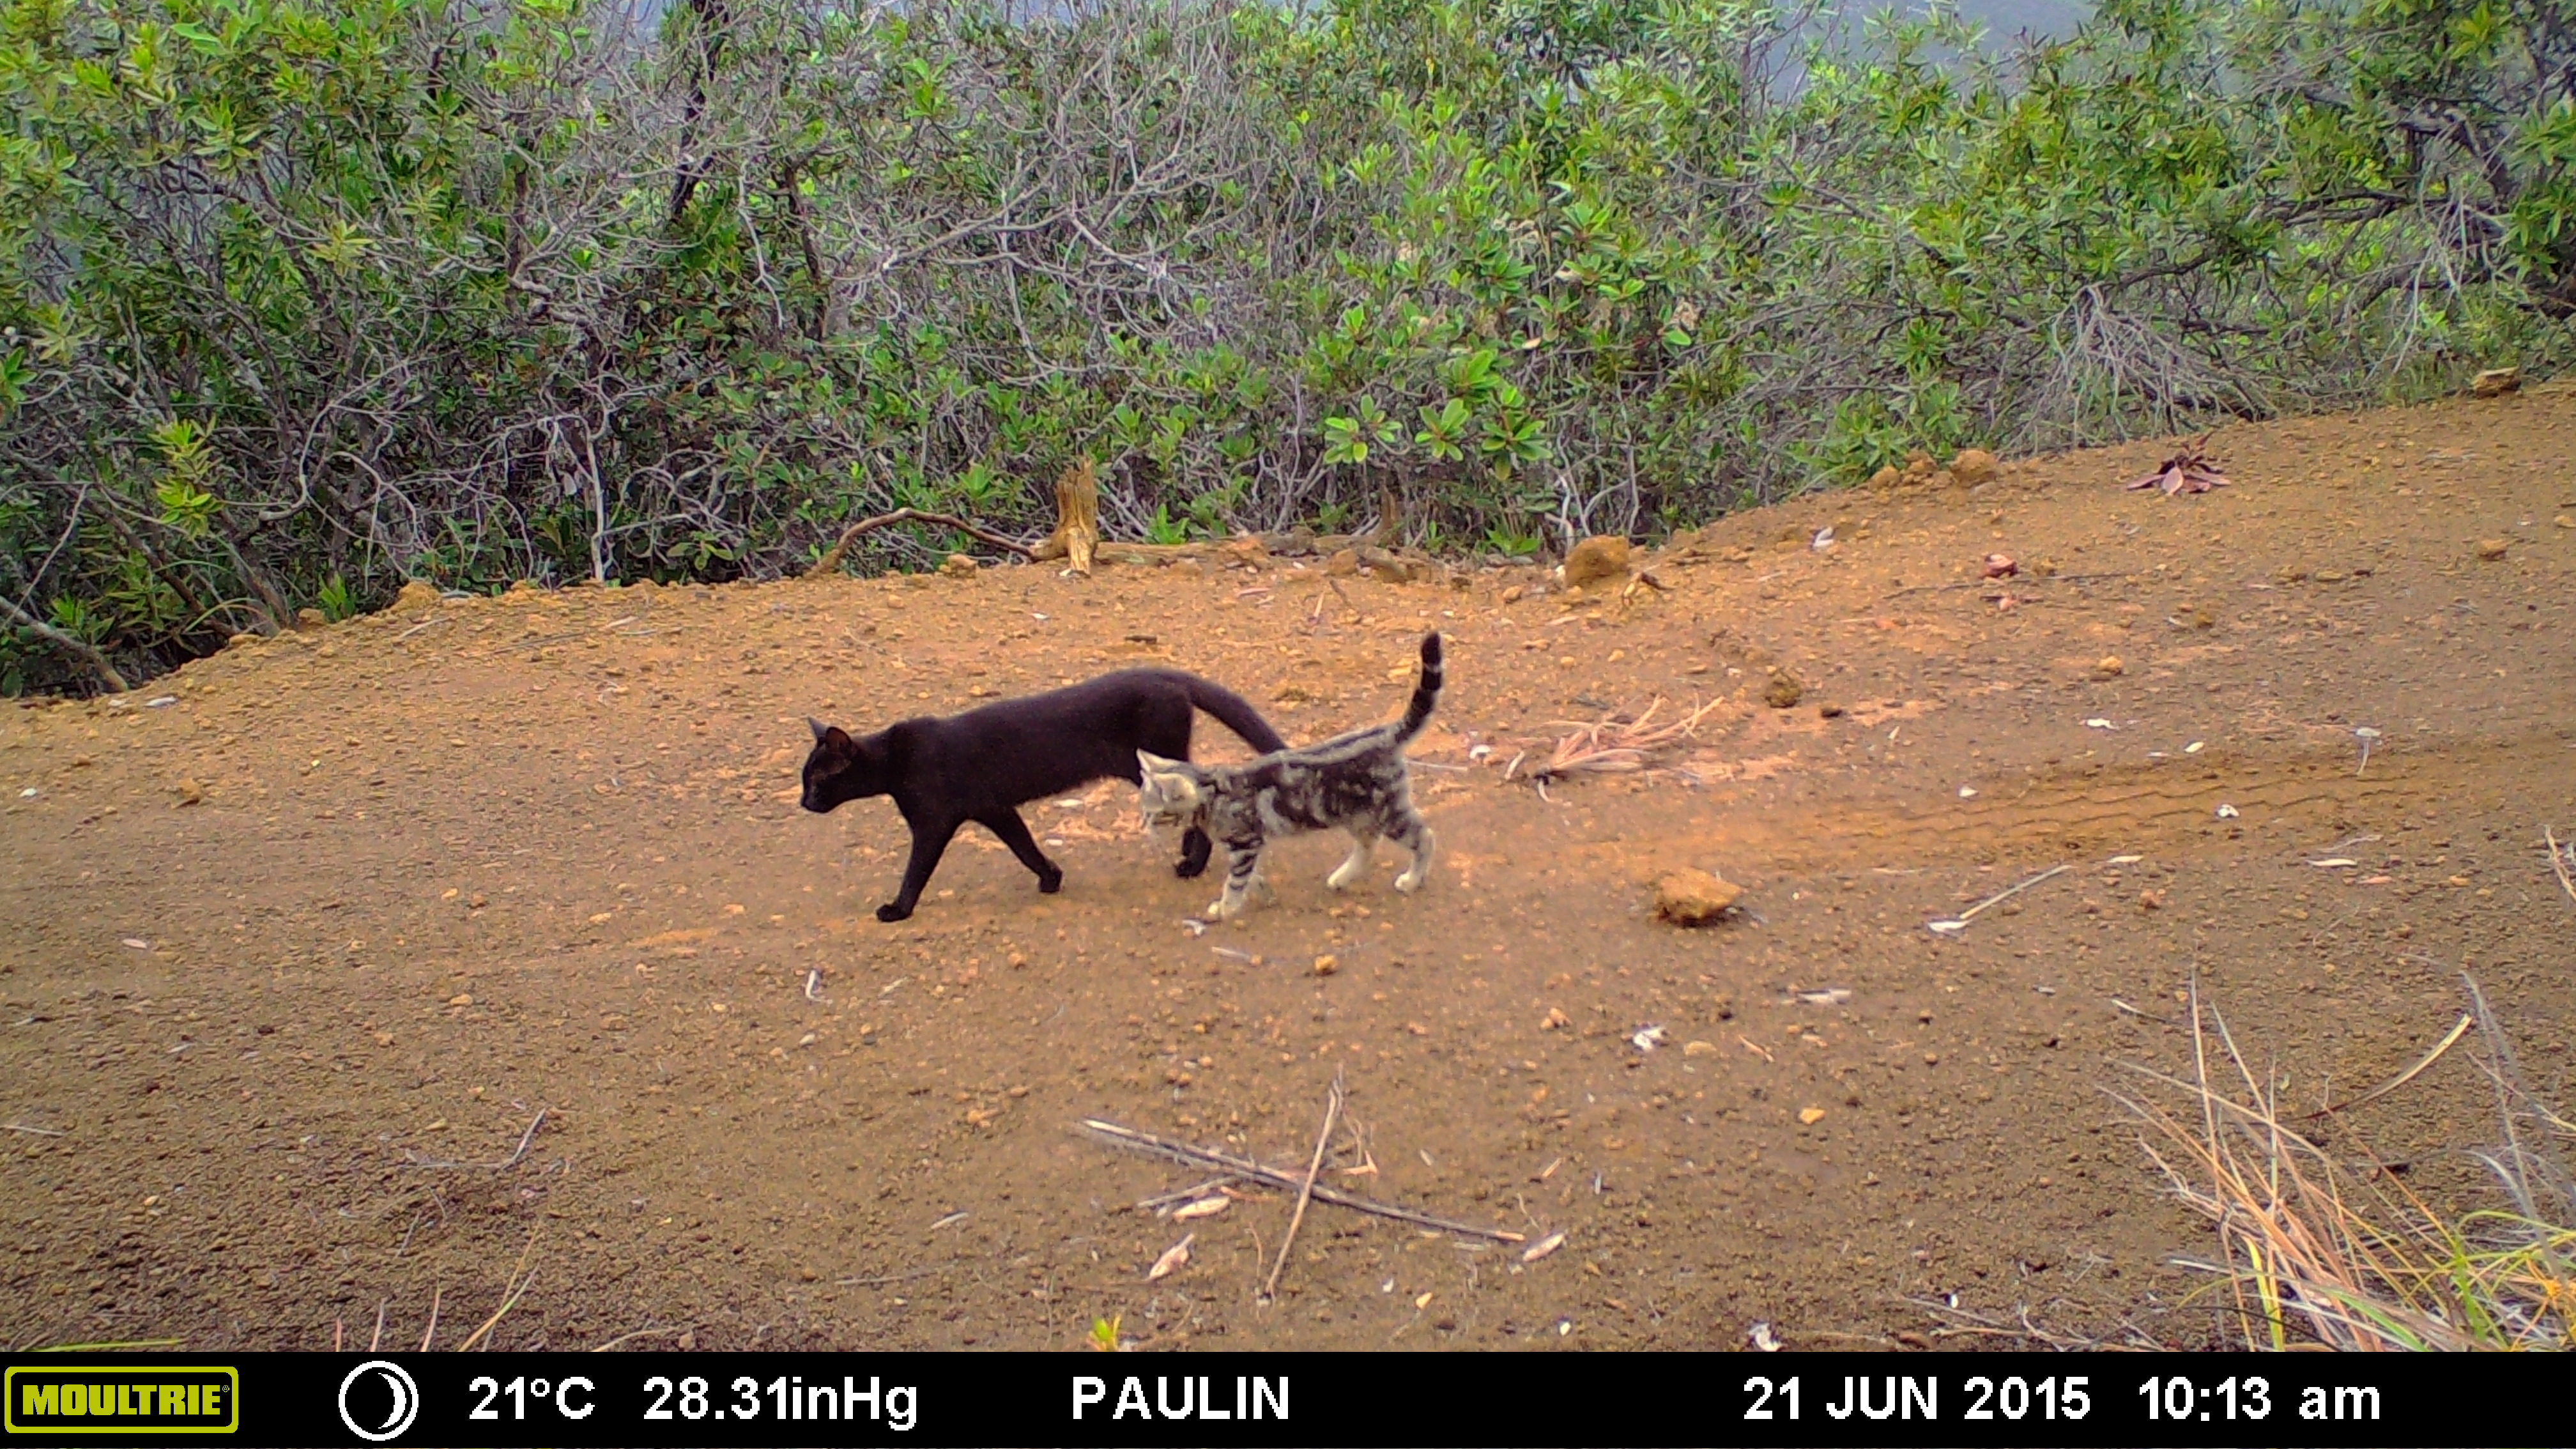cat: (789, 655, 1311, 938), (1154, 621, 1461, 932)
